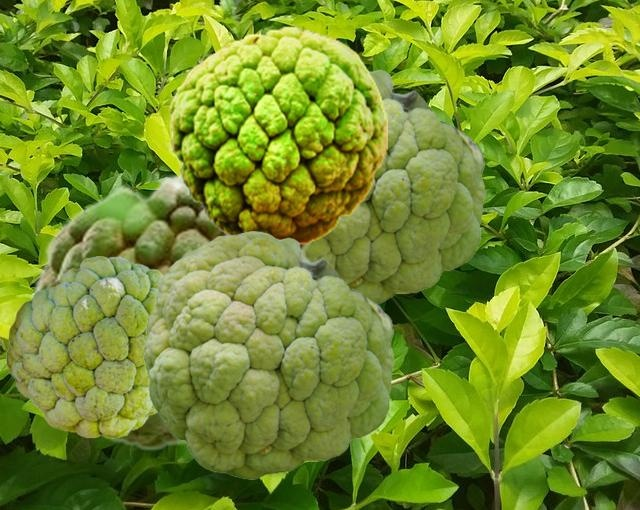atis: (28, 172, 314, 450), (144, 231, 393, 478), (168, 25, 386, 247), (307, 67, 484, 305), (6, 256, 164, 437)
